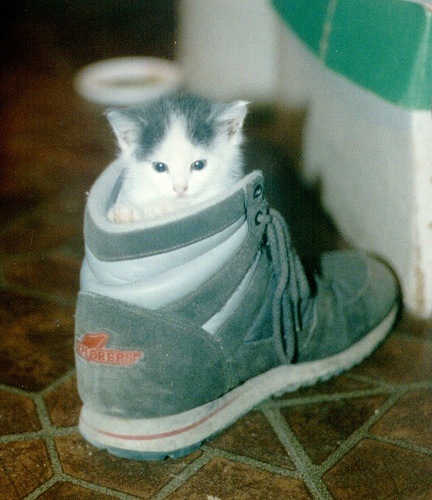cat: (103, 96, 354, 320)
